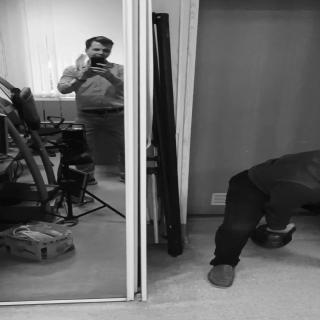kettlebell: (251, 223, 297, 250)
